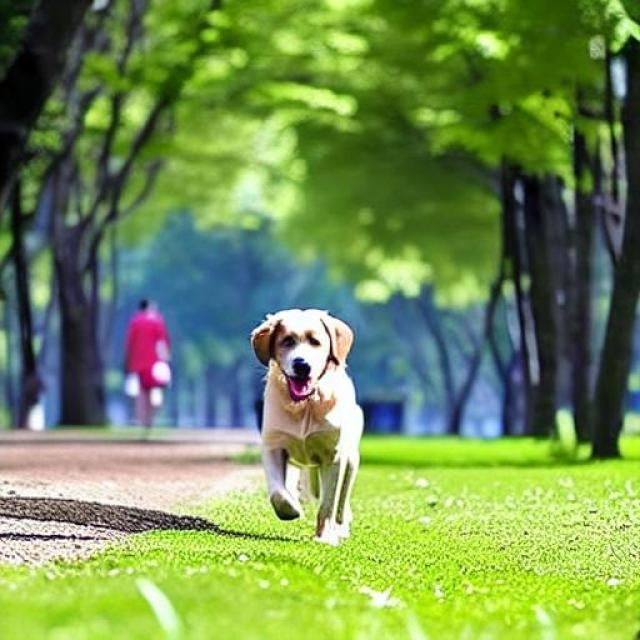Dog: (251, 309, 364, 540)
